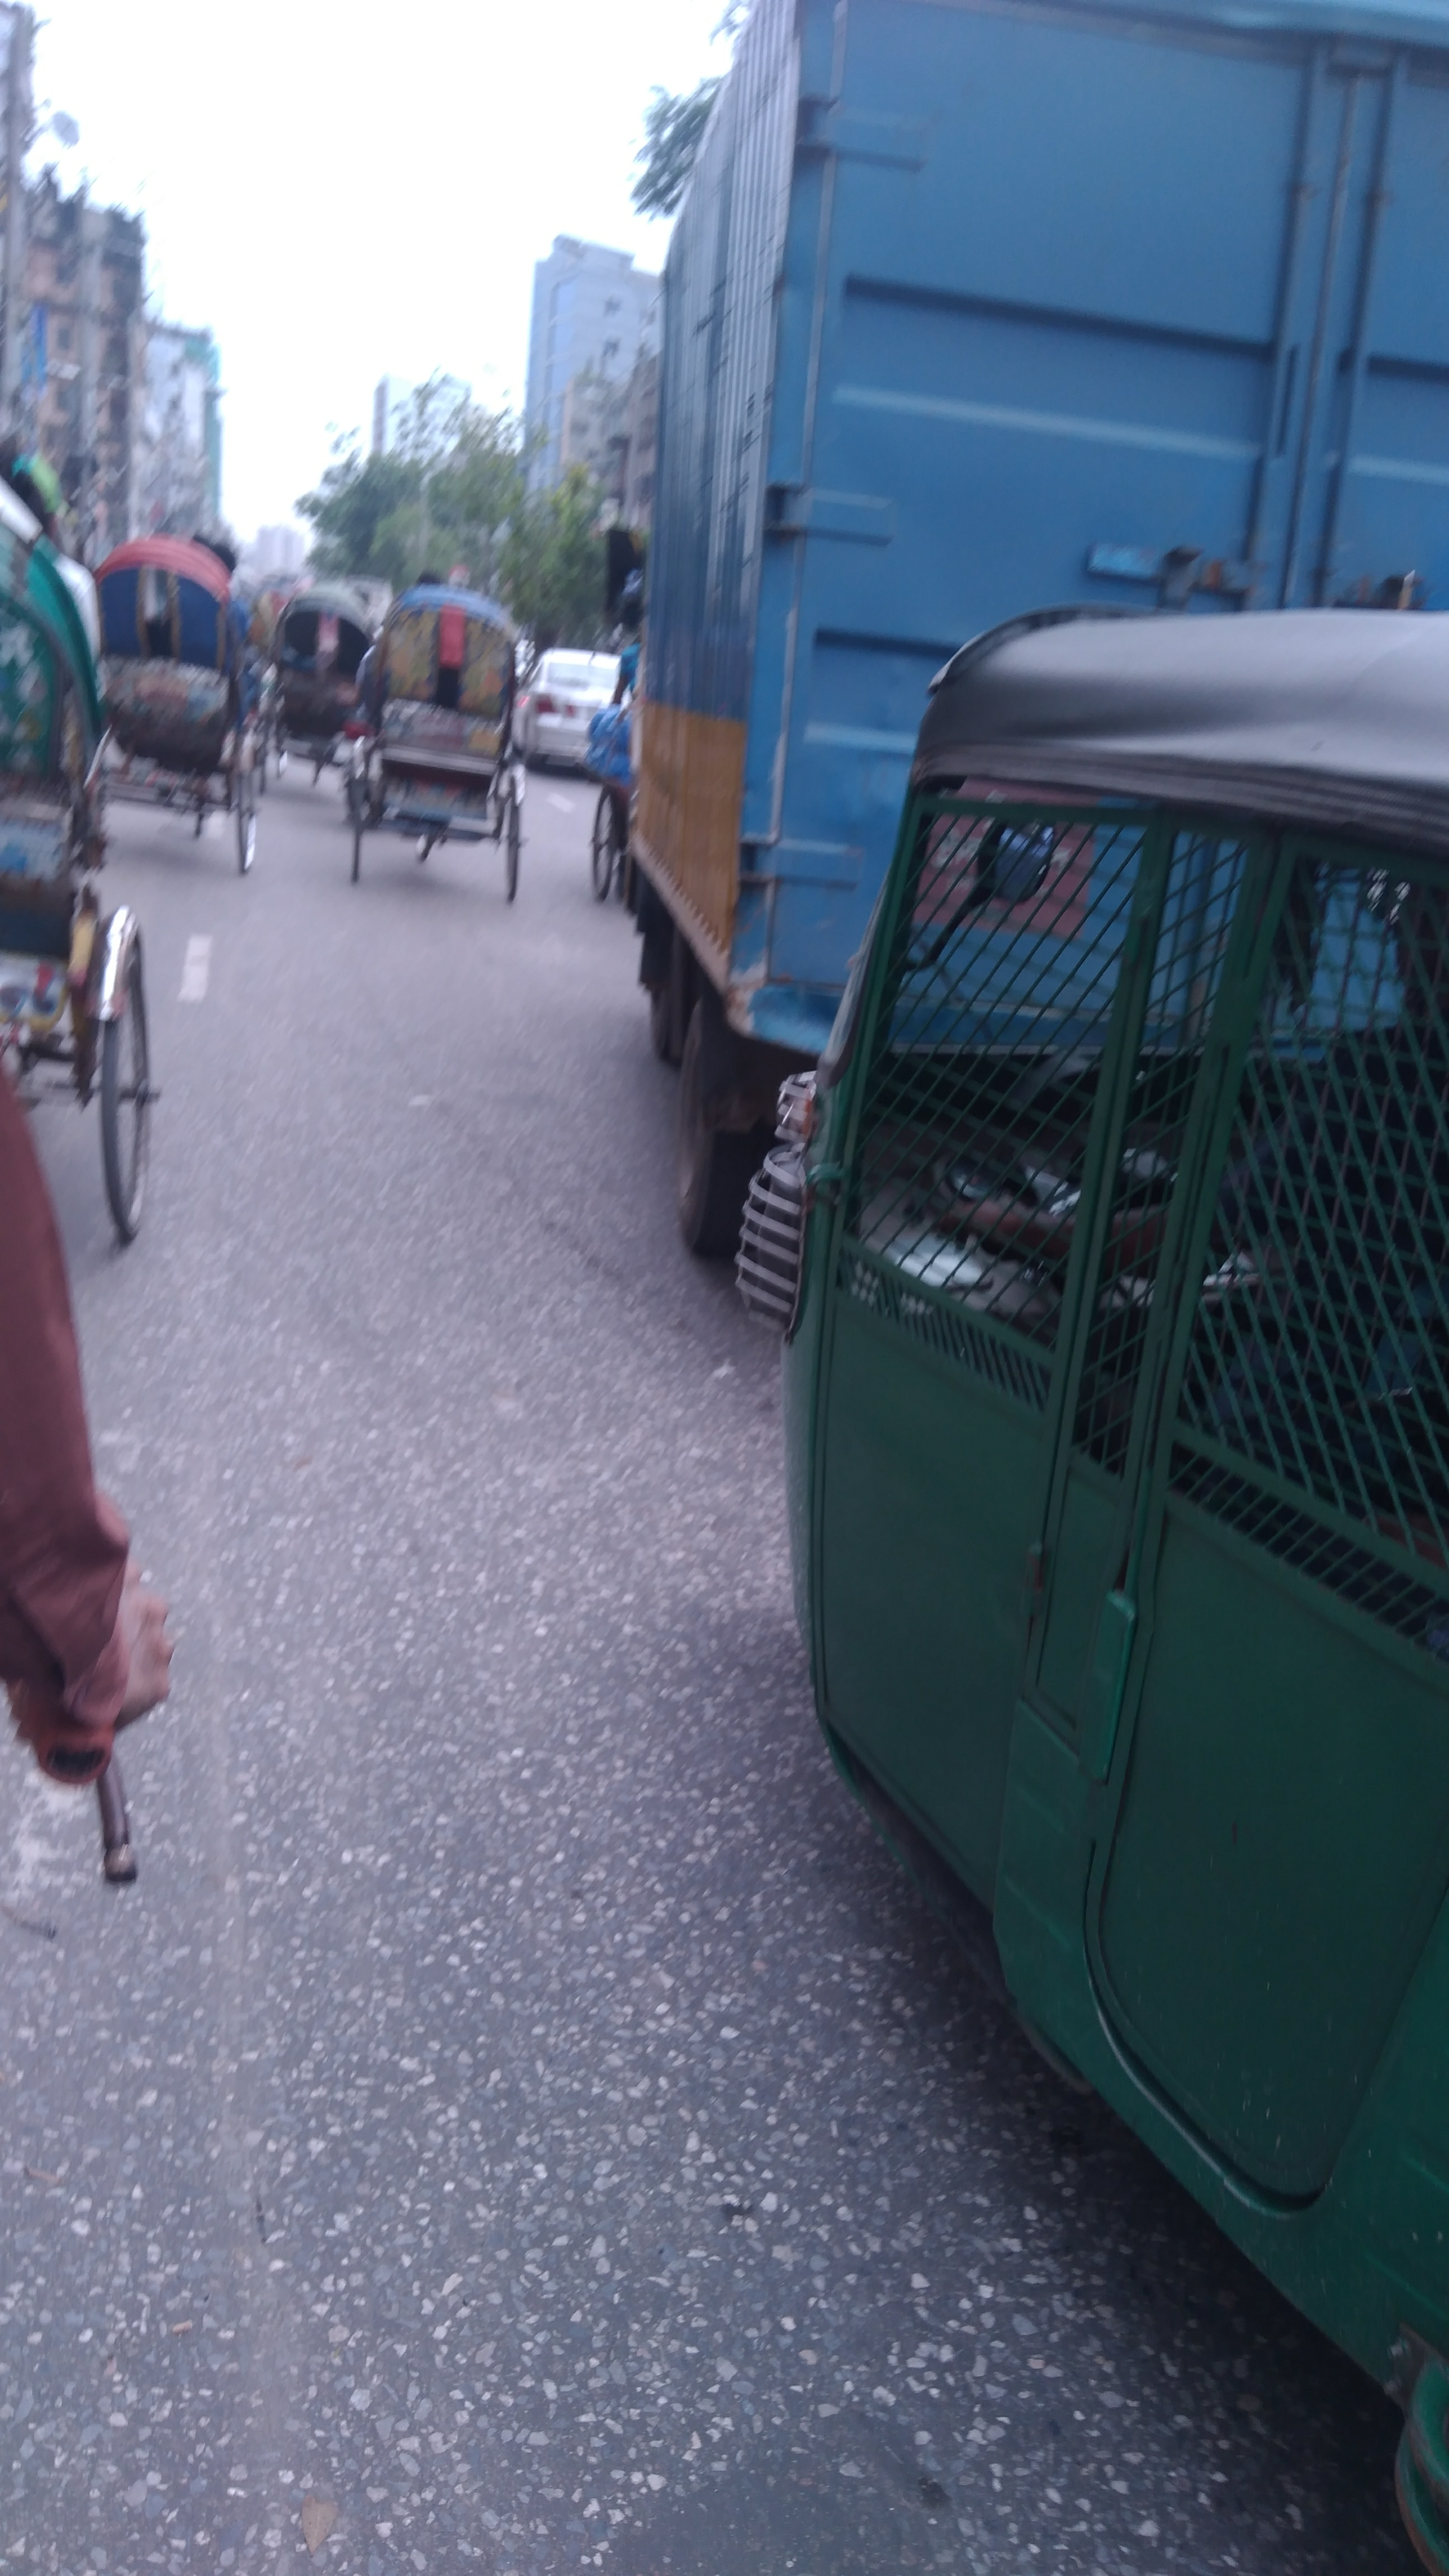car: (525, 635, 625, 768)
cng: (741, 603, 1444, 2576)
rickshaw: (0, 483, 166, 1247), (338, 591, 533, 899), (97, 540, 262, 867), (257, 584, 370, 800)
truck: (605, 0, 1449, 1254)
